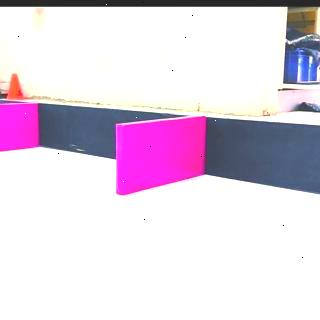xparking: (117, 122, 205, 184), (0, 104, 38, 146)
